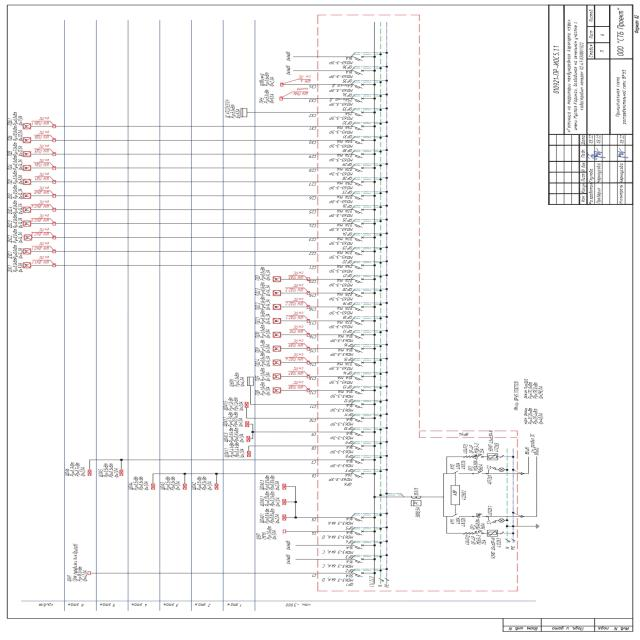-: (461, 442, 485, 454), (464, 534, 486, 546), (488, 430, 500, 452), (490, 537, 502, 559), (321, 546, 353, 554), (321, 532, 353, 540), (322, 560, 354, 568), (322, 574, 354, 582), (327, 518, 354, 526), (328, 446, 354, 454), (328, 404, 354, 412), (328, 349, 354, 357), (328, 84, 354, 92), (328, 126, 354, 134), (328, 98, 354, 106), (328, 390, 354, 398), (328, 474, 354, 482), (327, 71, 353, 79), (328, 334, 354, 342), (328, 210, 354, 218), (329, 432, 355, 440), (328, 112, 354, 120), (328, 418, 354, 426), (328, 182, 354, 190), (328, 224, 354, 232), (328, 460, 354, 468), (328, 265, 353, 273), (328, 168, 353, 176), (328, 293, 353, 301), (328, 56, 353, 64), (328, 307, 353, 315), (328, 154, 353, 162), (328, 140, 353, 148), (329, 252, 354, 260), (328, 279, 353, 287), (328, 362, 353, 370), (329, 376, 353, 384), (327, 238, 353, 245), (328, 196, 353, 203), (328, 321, 353, 328), (472, 459, 484, 472), (475, 518, 486, 530), (514, 381, 520, 402), (456, 518, 468, 528), (455, 460, 466, 470), (414, 507, 422, 518), (486, 474, 494, 484), (461, 489, 467, 501), (488, 504, 493, 516), (413, 487, 419, 495)
AVR: (450, 484, 462, 506)
FV: (488, 530, 498, 536), (488, 454, 498, 460)
HL: (498, 468, 504, 472), (498, 518, 504, 522)
KM: (452, 514, 460, 518), (453, 470, 460, 474)
QF: (353, 193, 365, 200), (353, 111, 365, 118), (353, 558, 365, 564), (352, 544, 364, 550), (353, 516, 365, 522), (352, 472, 364, 478), (352, 458, 364, 464), (352, 445, 364, 451), (353, 430, 365, 436), (353, 402, 365, 408), (353, 388, 365, 394), (352, 374, 364, 380), (353, 362, 365, 368), (353, 346, 365, 352), (352, 319, 364, 325), (353, 305, 365, 311), (352, 292, 364, 298), (353, 278, 365, 284), (352, 264, 364, 270), (353, 250, 365, 256), (352, 236, 364, 242), (354, 222, 366, 228), (354, 208, 366, 214), (353, 180, 365, 186), (352, 167, 364, 173), (352, 152, 364, 158), (353, 138, 365, 144), (353, 124, 365, 130), (352, 96, 364, 102), (352, 83, 364, 89), (352, 70, 364, 76), (352, 530, 363, 536), (352, 572, 363, 578), (353, 417, 365, 422), (354, 334, 366, 339), (352, 56, 364, 61), (490, 466, 498, 471), (476, 454, 486, 458), (476, 530, 484, 534), (476, 470, 484, 474), (476, 514, 484, 518), (489, 520, 496, 524)
TT: (410, 495, 422, 499)
WH: (410, 499, 422, 506)
